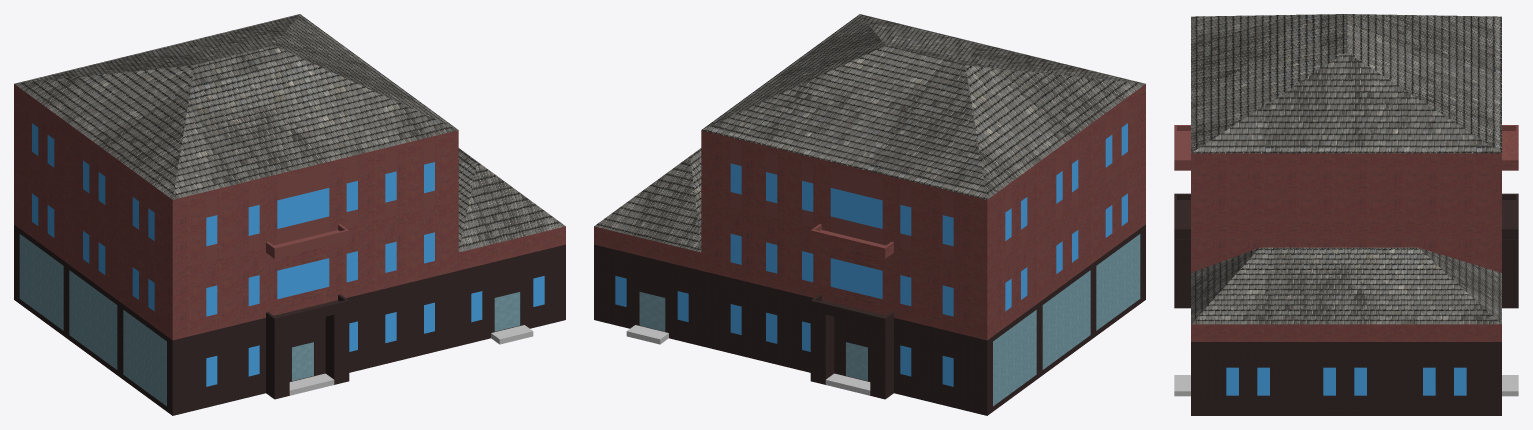
File: Dewatering_Building.glb
3 renders of one model, left to right at view 1: azimuth 30°, elevation 25°; view 2: azimuth 150°, elevation 25°; view 3: azimuth 270°, elevation 25°, orthographic. The views are drawn at different scales.
Parts seen in each view (by area): view 1: Roof, Floor2, Floor1, Floor3; view 2: Roof, Floor2, Floor1, Floor3; view 3: Roof, Floor2, Floor1, Floor3.
Part boxes in pixels (x1=…): Roof: x1=14, y1=14, x2=458, y2=204; Floor2: x1=14, y1=148, x2=565, y2=345; Floor1: x1=14, y1=230, x2=565, y2=415; Floor3: x1=14, y1=89, x2=458, y2=275; Roof: x1=701, y1=14, x2=1145, y2=204; Floor2: x1=594, y1=148, x2=1145, y2=345; Floor1: x1=594, y1=230, x2=1145, y2=415; Floor3: x1=701, y1=89, x2=1145, y2=275; Roof: x1=1191, y1=14, x2=1501, y2=158; Floor2: x1=1174, y1=193, x2=1518, y2=347; Floor1: x1=1174, y1=239, x2=1518, y2=415; Floor3: x1=1174, y1=125, x2=1518, y2=226.
Bounding box in the file's own units: 31.62 × 20.6 × 24.5.
Materials: 8 (7 with a texture image).
